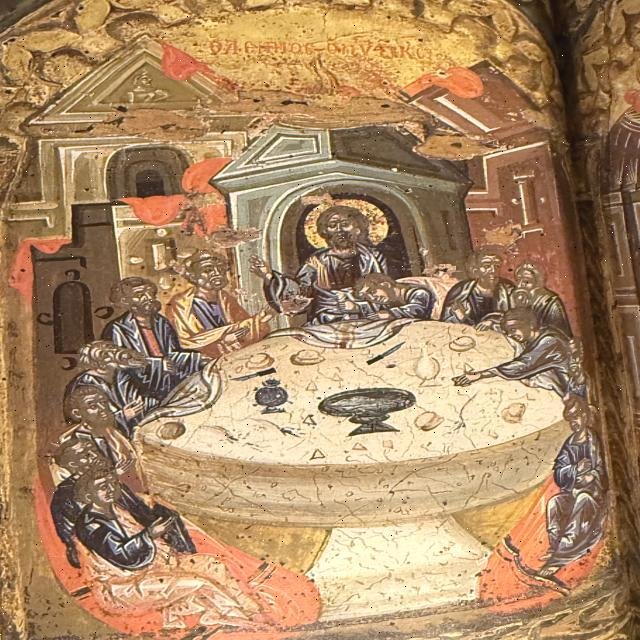aura: (300, 199, 396, 253)
chalice: (323, 385, 409, 439)
christ: (253, 196, 416, 331)
